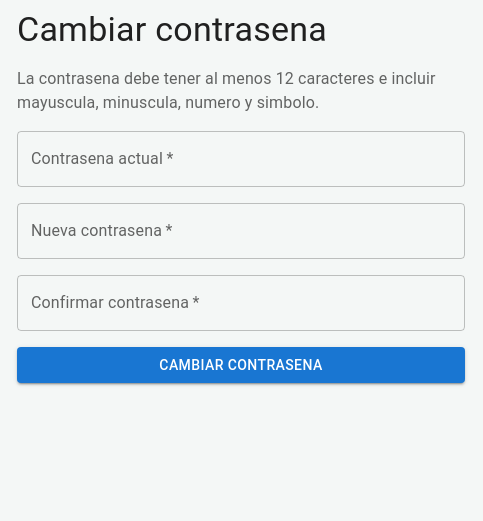
Test: CambiarContrasenaPage › reports a temporary verification failure without treating it as an incorrect password
In the password field labelled "Contrasena actual *": x=241, y=159 [17,131,465,187], type "ContrasenaActual1!"
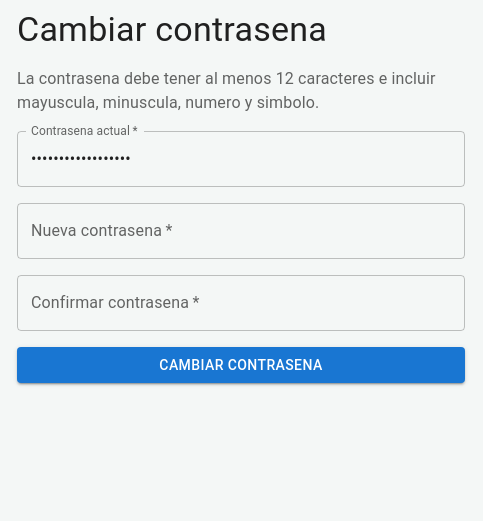
In the password field labelled "Nueva contrasena *": x=241, y=231 [17,203,465,259], type "ContrasenaNueva1!"
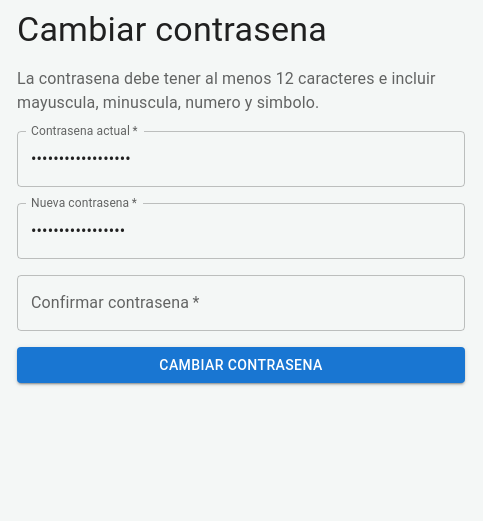
In the password field labelled "Confirmar contrasena *": x=241, y=303 [17,275,465,331], type "ContrasenaNueva1!"
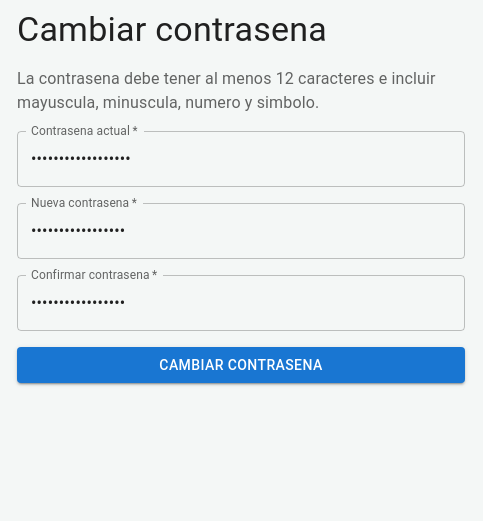
Click the button "Cambiar contrasena": x=241, y=365 [17,347,465,384]
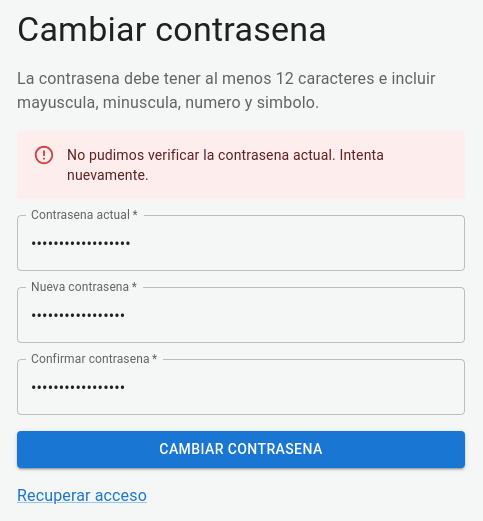
Expected: the text "No pudimos verificar la contrasena actual" is shown, [67,147,384,183]
